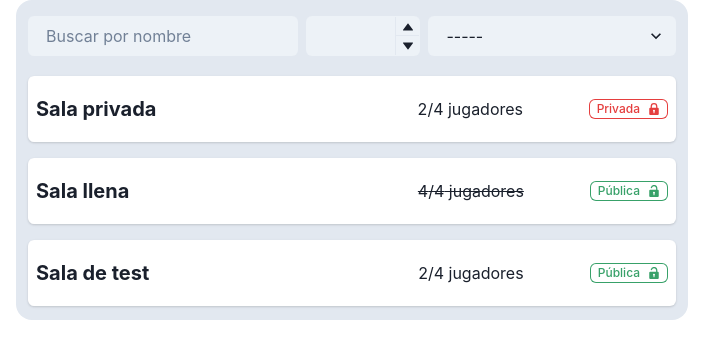
Scenario: RoomList › Si no tengo ningun valor en los filtros, se muestran todas las salas
Type "test" into the field with placeholder "Buscar por nombre" at [163, 36], box x1=28 y1=16 x2=298 y2=56
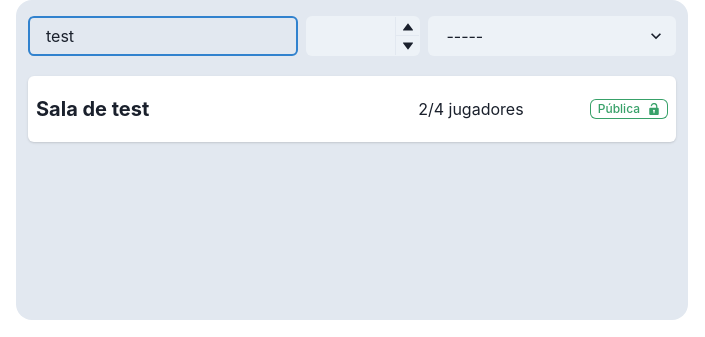
Type "2" into the number field named "Cantidad de jugadores" at [363, 36], box x1=306 y1=16 x2=420 y2=56
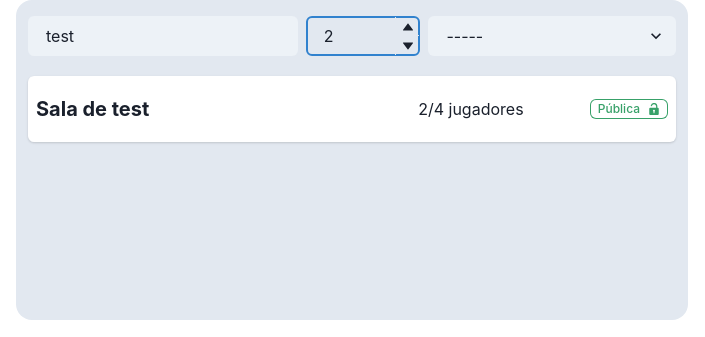
Clear the field with placeholder "Buscar por nombre" at [163, 36], box x1=28 y1=16 x2=298 y2=56
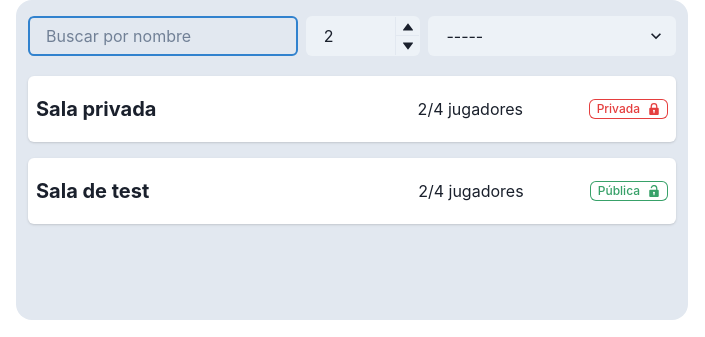
Clear the number field named "Cantidad de jugadores" at [363, 36], box x1=306 y1=16 x2=420 y2=56
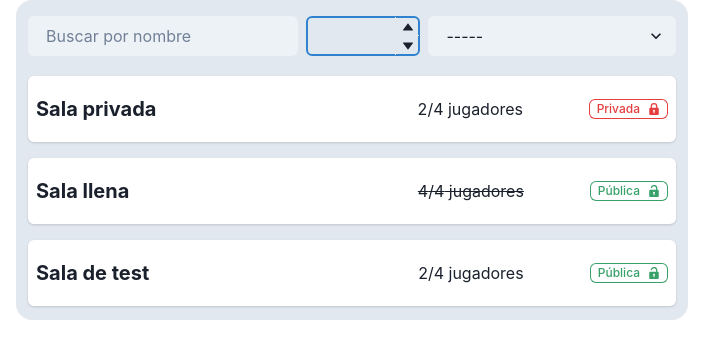
Expected: the heading "Sala de test" is shown, x1=36 y1=261 x2=149 y2=285
Now the heading "Sala privada" is shown, box x1=36 y1=97 x2=156 y2=121
Now the heading "Sala llena" is shown, box x1=36 y1=179 x2=129 y2=203
